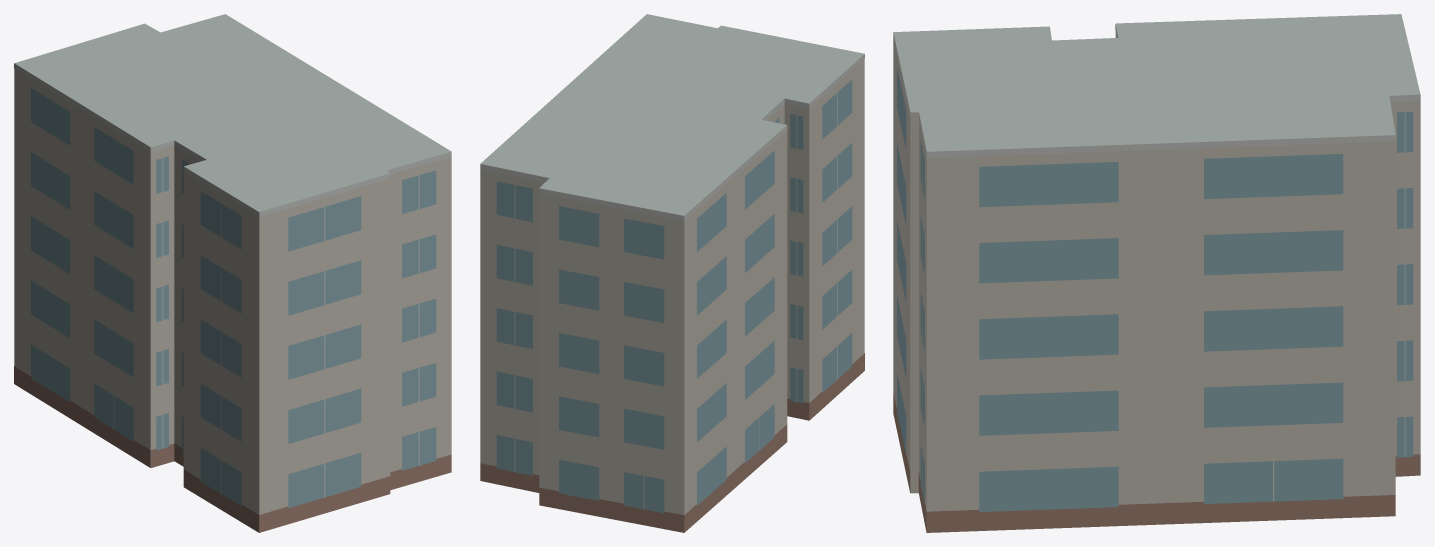
The model's file is survey-upis-32602240.glb.
The picture shows the model from 3 angles, left to right: view 1: azimuth 30°, elevation 25°; view 2: azimuth 150°, elevation 25°; view 3: azimuth 270°, elevation 25°; orthographic projection. The views are drawn at different scales.
Visible parts, largest first — view 1: survey-upis-32602240.tmp; view 2: survey-upis-32602240.tmp; view 3: survey-upis-32602240.tmp.
Part boxes in pixels (bbox=[...]): survey-upis-32602240.tmp: bbox=[14, 14, 451, 532]; survey-upis-32602240.tmp: bbox=[480, 14, 864, 532]; survey-upis-32602240.tmp: bbox=[893, 14, 1420, 532].
Bounding box in the file's own units: 11.49 × 14.8 × 18.57.
